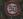Speed Limit -50-: (0, 0, 22, 18)
